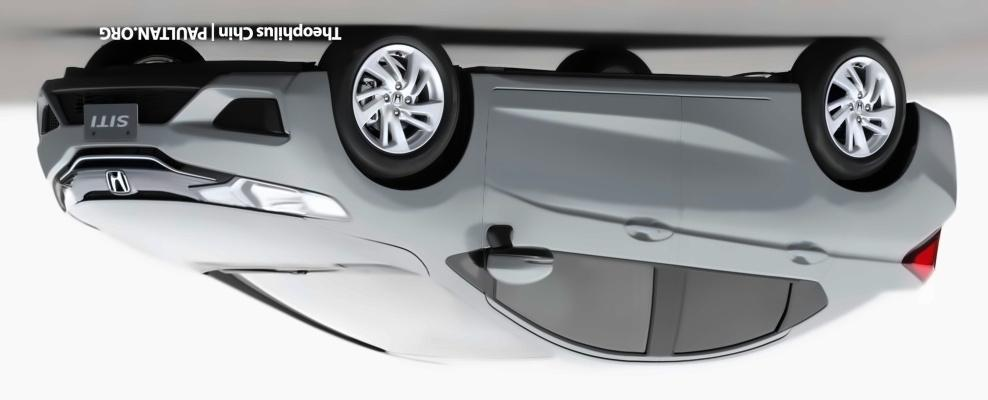Car hood: (65, 198, 428, 272)
Driver-s door - -F-R-: (471, 58, 688, 374)
Fender - -F-R-: (318, 63, 494, 278)
Fender - -R-R-: (787, 101, 913, 293)
Front bumper: (23, 62, 335, 188)
Headlight - -R-: (184, 171, 352, 217)
Passenger-s door - -R-R-: (655, 58, 821, 373)
Rear bumper: (900, 85, 960, 190)
Rear light - -R-: (899, 227, 942, 286)
Side bumper - -R-: (460, 59, 810, 139)
Side mirror - -R-: (472, 220, 556, 285)
